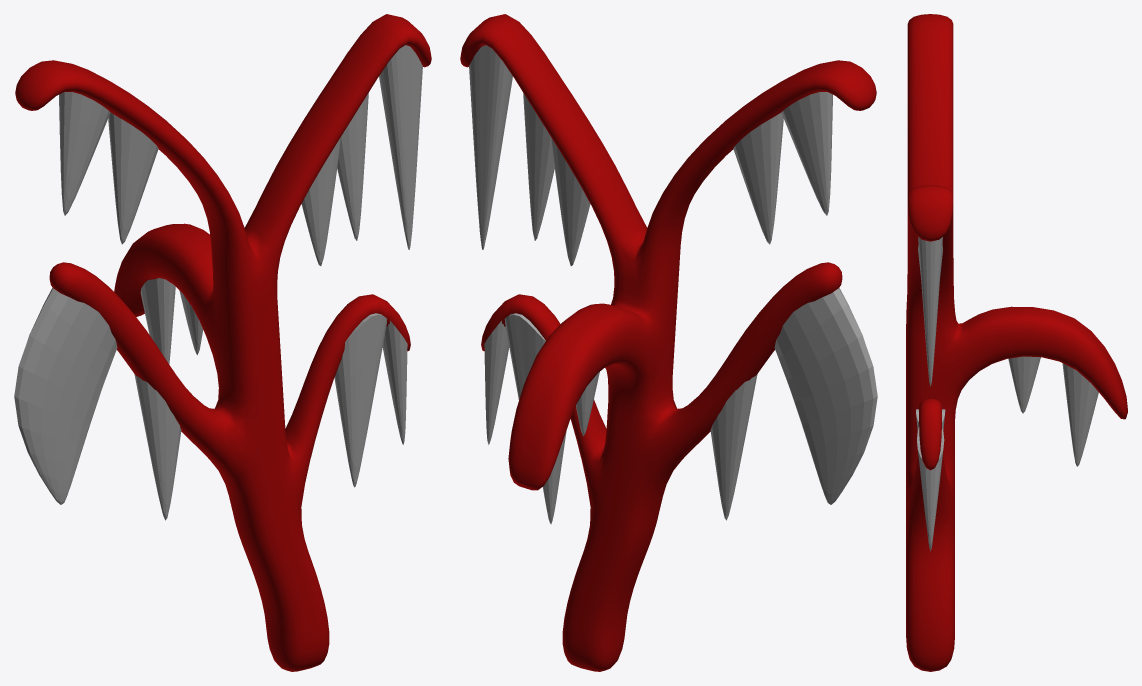
File: mars-tree-06.obj
3 views of the same model, side by side, from view 1: azimuth 30°, elevation 25°; view 2: azimuth 150°, elevation 25°; view 3: azimuth 270°, elevation 25° (orthographic). The views are drawn at different scales.
Parts seen in each view (by area): view 1: Tree.006_Cube.013; view 2: Tree.006_Cube.013; view 3: Tree.006_Cube.013.
Part boxes in pixels (x1,y1,x2,y2): Tree.006_Cube.013: [14, 14, 431, 671]; Tree.006_Cube.013: [460, 14, 877, 671]; Tree.006_Cube.013: [906, 14, 1127, 671].
Size of the model in its own units: 1.62 by 2.49 by 0.9074.
